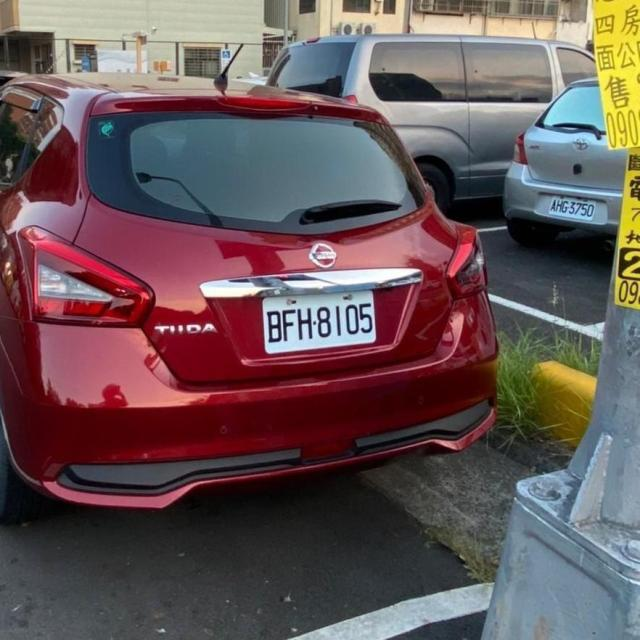W: (257, 284, 379, 356), (548, 193, 596, 220)
